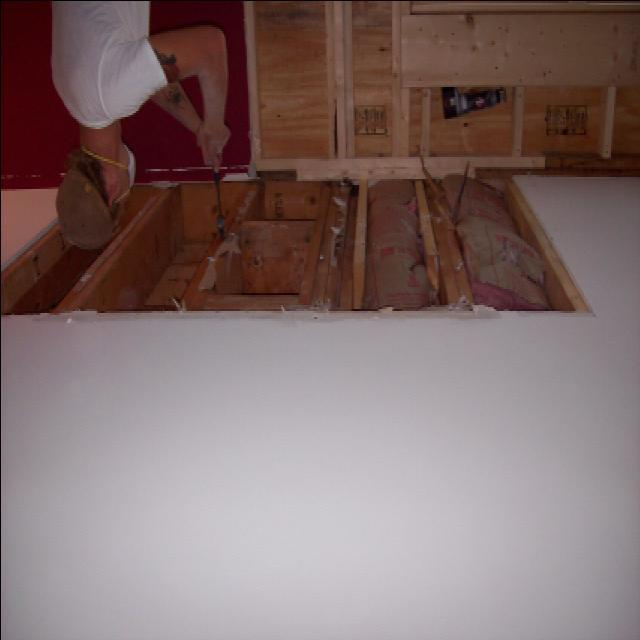Crack: (134, 180, 585, 312), (12, 245, 133, 313)
